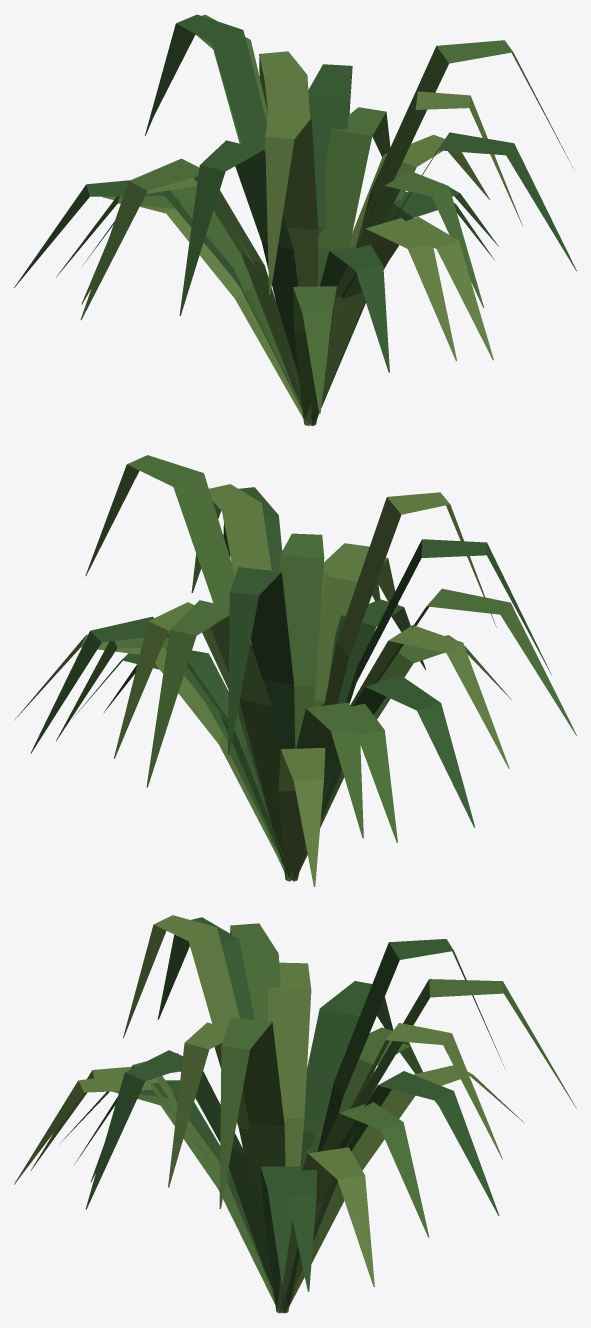
File: nu-groundcover-clump.glb
3 renders of one model, top to bottom at view 1: azimuth 30°, elevation 25°; view 2: azimuth 150°, elevation 25°; view 3: azimuth 270°, elevation 25°, orthographic. The views are drawn at different scales.
Parts seen in each view (by area): view 1: StrapLeaves; view 2: StrapLeaves; view 3: StrapLeaves.
Boxes of the visible parts, <box> form: StrapLeaves: <box>14,14,576,425</box>; StrapLeaves: <box>14,455,576,886</box>; StrapLeaves: <box>14,915,576,1313</box>.
Bounding box in the file's own units: 0.6353 × 0.4375 × 0.6419.
